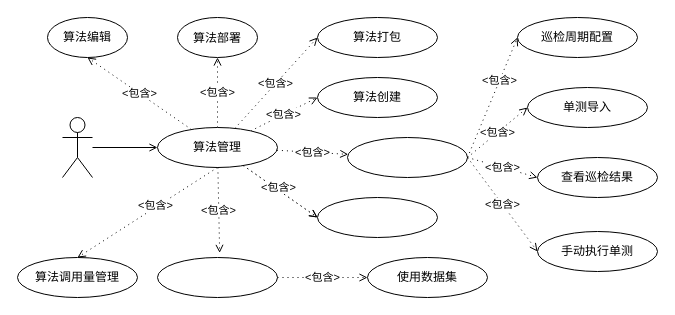
This 675x315 diagram has some shape labels left out. The centre of each missing label's shape, as x and y in pixels:
"算法巡检配置" goes at (x=407, y=157).
"算法开启与禁用" goes at (x=377, y=217).
"算法研发" goes at (x=217, y=277).
"算法研发人员" goes at (x=77, y=147).
